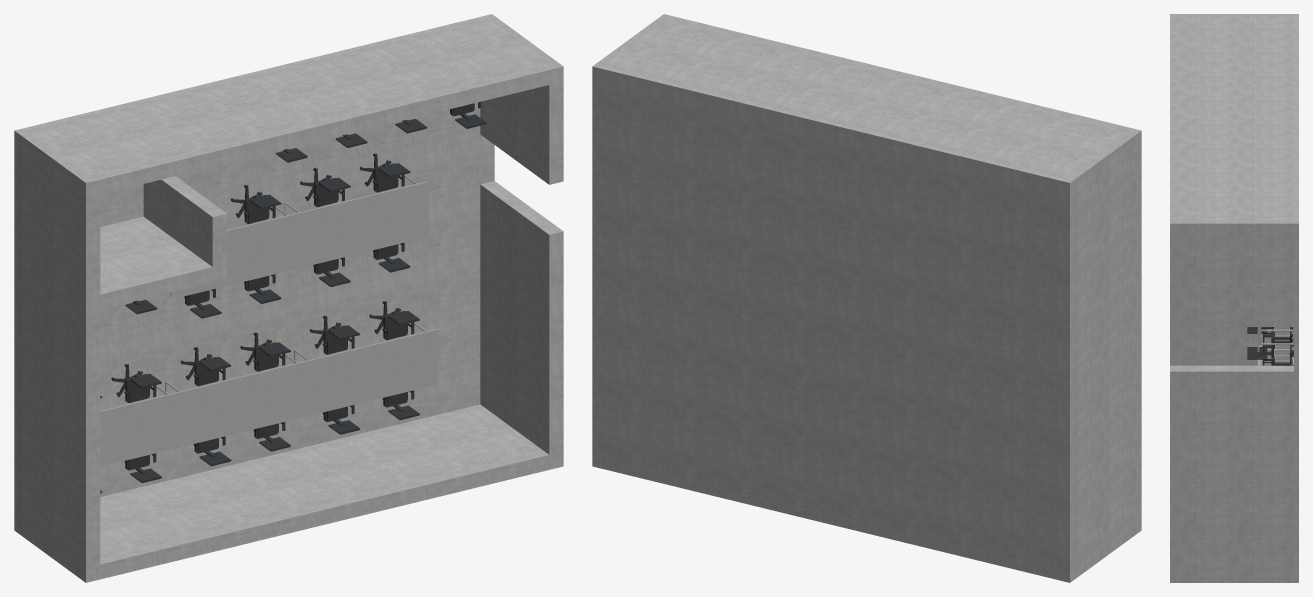
File: prova-visor-mwvricy7.glb
3 renders of one model, left to right at view 1: azimuth 30°, elevation 25°; view 2: azimuth 150°, elevation 25°; view 3: azimuth 270°, elevation 25°, orthographic. The views are drawn at different scales.
Visible parts, largest first — view 1: Body2, Body1, 40x40marco_largo_(1)_(1), 40x40marco_largo_(1), 40x40marco_largo_(1)_(1)_(1), 40x40marco_largo, 40x40marco_largo_(1)_(2), Silla_oficina_6, Silla_oficina_12, Silla_oficina_22, Silla_oficina_4, Silla_oficina_8 (+3 smaller); view 2: Body1, Body2; view 3: Body2, Body1, Silla_oficina_25, 40x40marco_largo_(1)_(1)_(1), Silla_oficina_8.
Boxes of the visible parts, x1=… form: Body2: x1=17, y1=16, x2=563, y2=582; Body1: x1=14, y1=14, x2=494, y2=531; 40x40marco_largo_(1)_(1): x1=294, y1=322, x2=438, y2=415; 40x40marco_largo_(1): x1=165, y1=354, x2=309, y2=447; 40x40marco_largo_(1)_(1)_(1): x1=284, y1=175, x2=428, y2=267; 40x40marco_largo: x1=100, y1=385, x2=180, y2=466; 40x40marco_largo_(1)_(2): x1=170, y1=206, x2=299, y2=298; Silla_oficina_6: x1=180, y1=347, x2=231, y2=386; Silla_oficina_12: x1=369, y1=301, x2=419, y2=340; Silla_oficina_22: x1=230, y1=185, x2=281, y2=223; Silla_oficina_4: x1=111, y1=364, x2=161, y2=402; Silla_oficina_8: x1=240, y1=332, x2=290, y2=371; Body1: x1=592, y1=64, x2=1072, y2=582; Body2: x1=595, y1=14, x2=1141, y2=580; Body2: x1=1170, y1=14, x2=1293, y2=582; Body1: x1=1294, y1=14, x2=1298, y2=582; Silla_oficina_25: x1=1247, y1=327, x2=1293, y2=359; 40x40marco_largo_(1)_(1)_(1): x1=1257, y1=327, x2=1293, y2=351; Silla_oficina_8: x1=1247, y1=347, x2=1293, y2=365.
Bounding box in the file's own units: 10 × 8 × 2.6.
4 materials, 4 textured.
